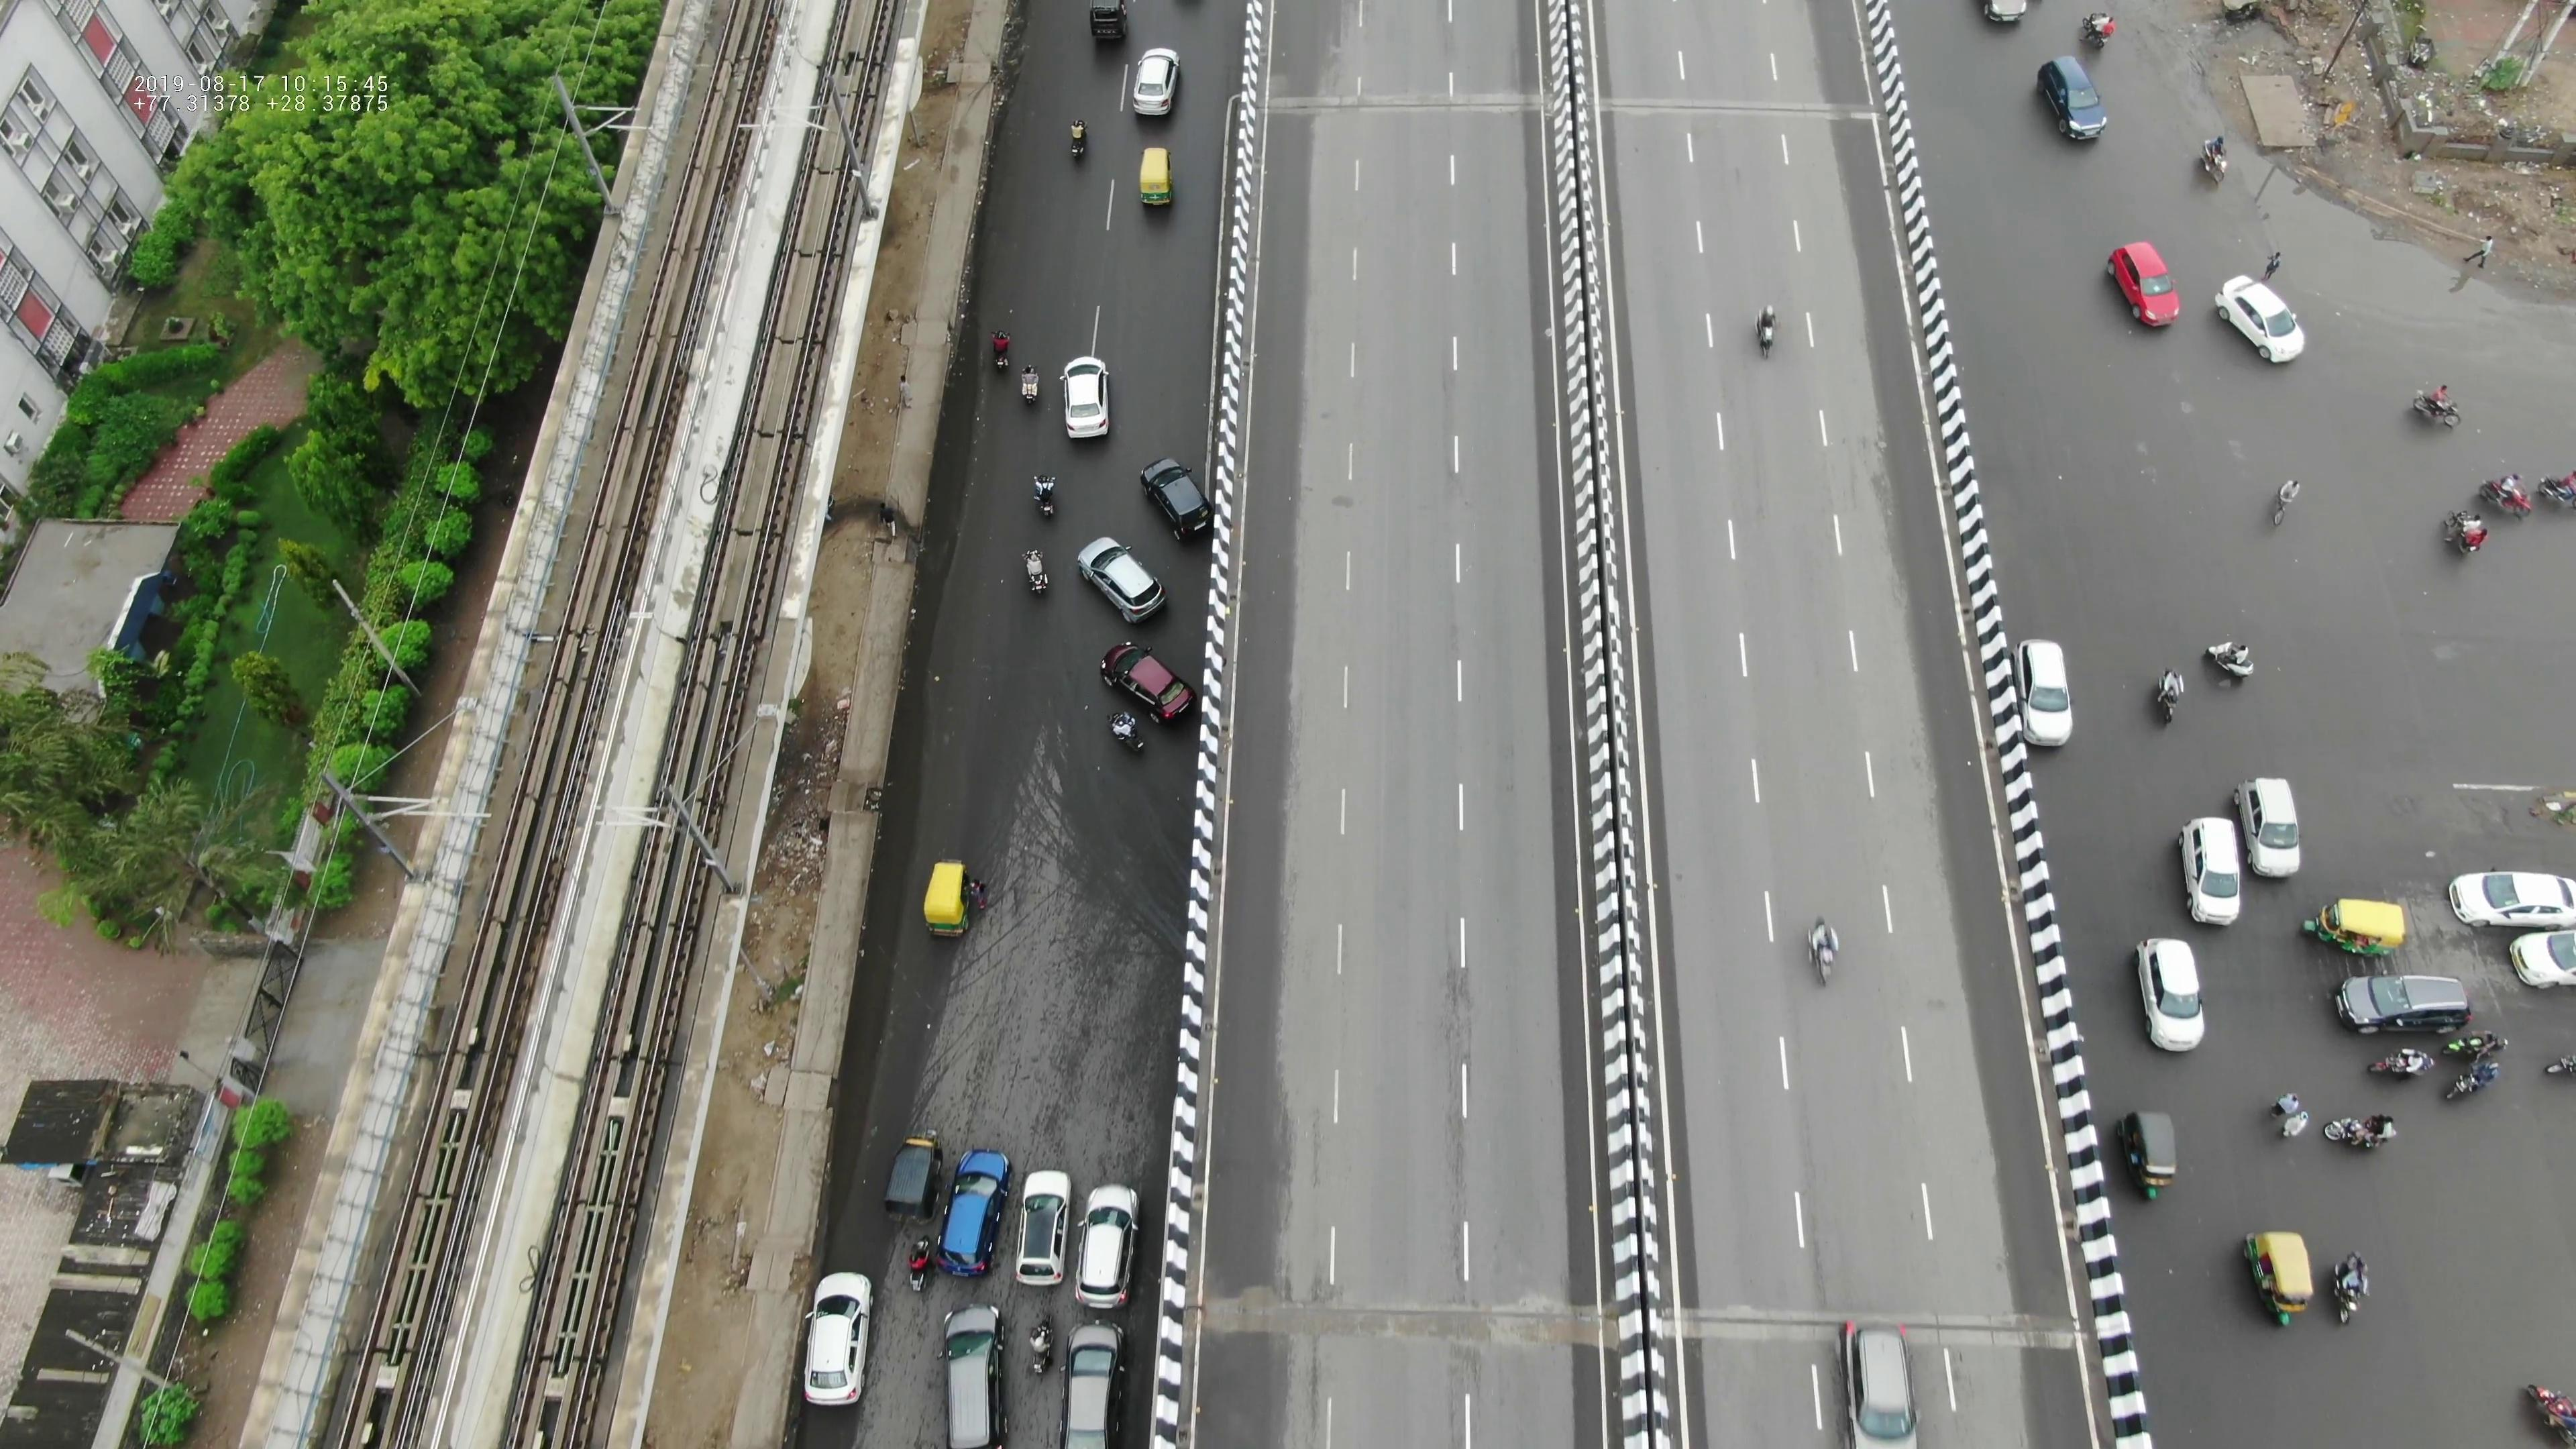Ravelling: (1424, 934, 1479, 1217)
